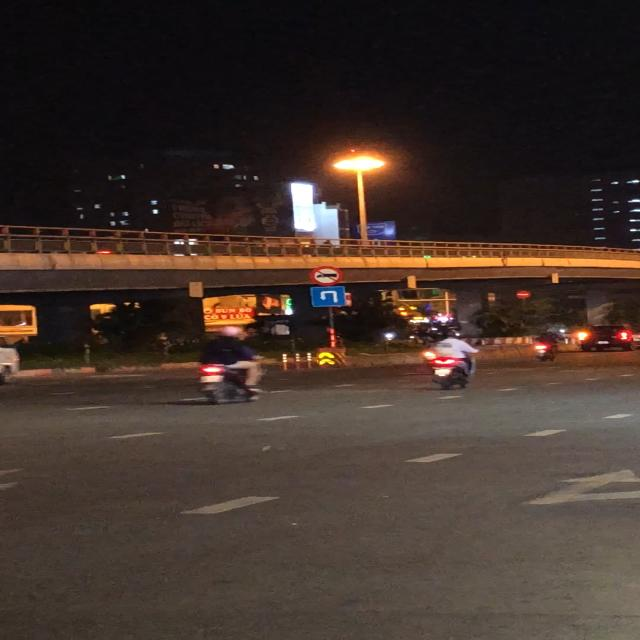Bien bao cam xe so-mi ro-mooc: (310, 266, 344, 286)
